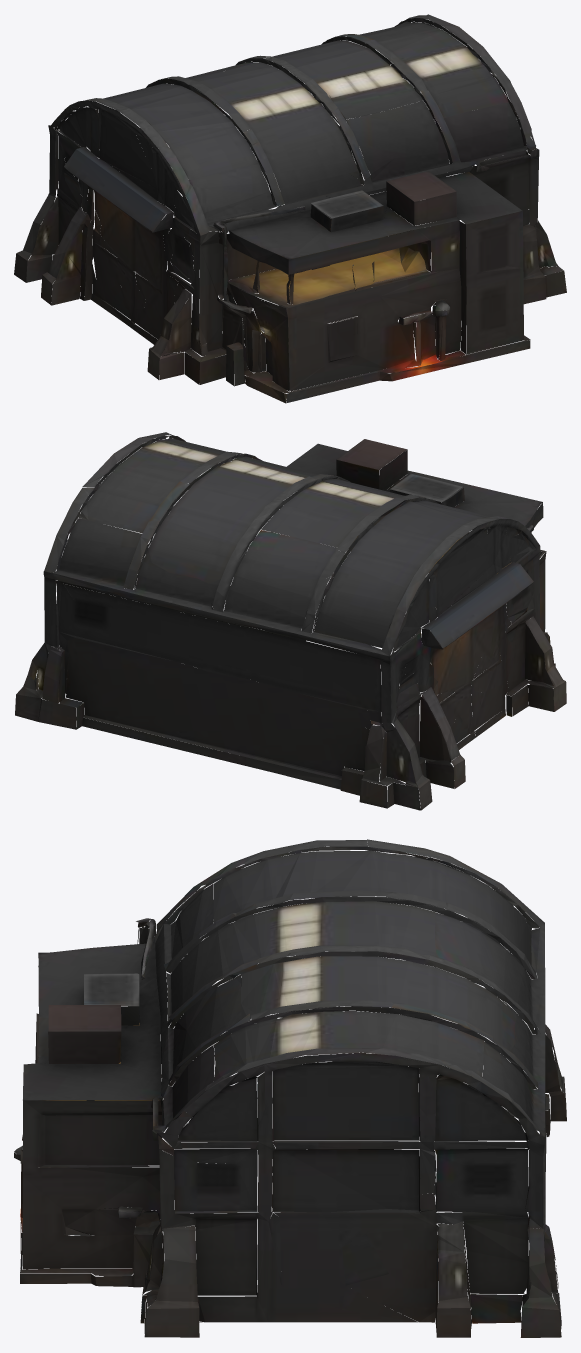
File: studio.glb
The picture shows the model from 3 angles, top to bottom: view 1: azimuth 30°, elevation 25°; view 2: azimuth 150°, elevation 25°; view 3: azimuth 270°, elevation 25°; orthographic projection. The views are drawn at different scales.
Parts seen in each view (by area): view 1: geometry_0; view 2: geometry_0; view 3: geometry_0.
Boxes of the visible parts, x1,y1,x2,y2 form: geometry_0: (14, 14, 566, 403); geometry_0: (15, 432, 566, 810); geometry_0: (14, 839, 566, 1337).
Bounding box in the file's own units: 2 × 1 × 1.84.
Materials: 1 (1 with a texture image).
